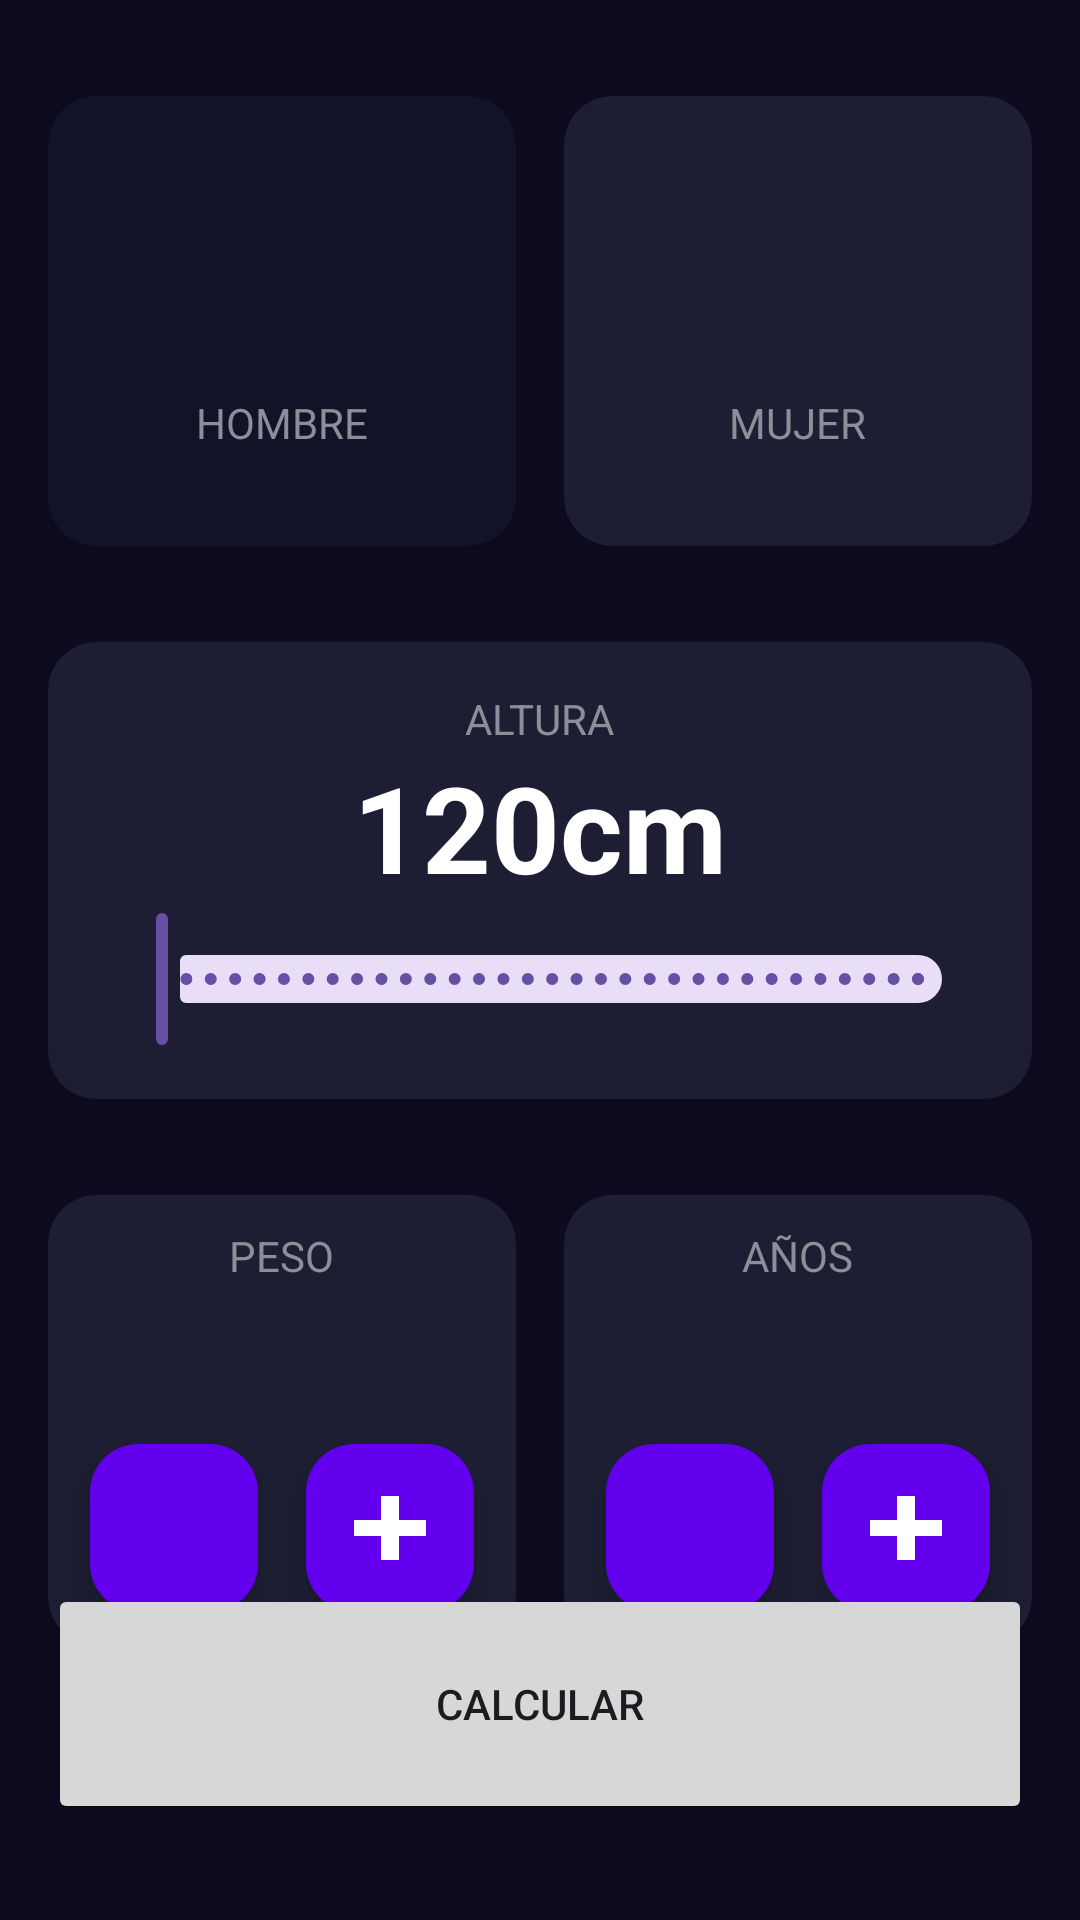

Screen size 1080*1920. Icon name, then its box in pixels as BBox(x1, y1, x2, y2):
plus: BBox(306, 1444, 474, 1612), BBox(822, 1444, 990, 1612)
